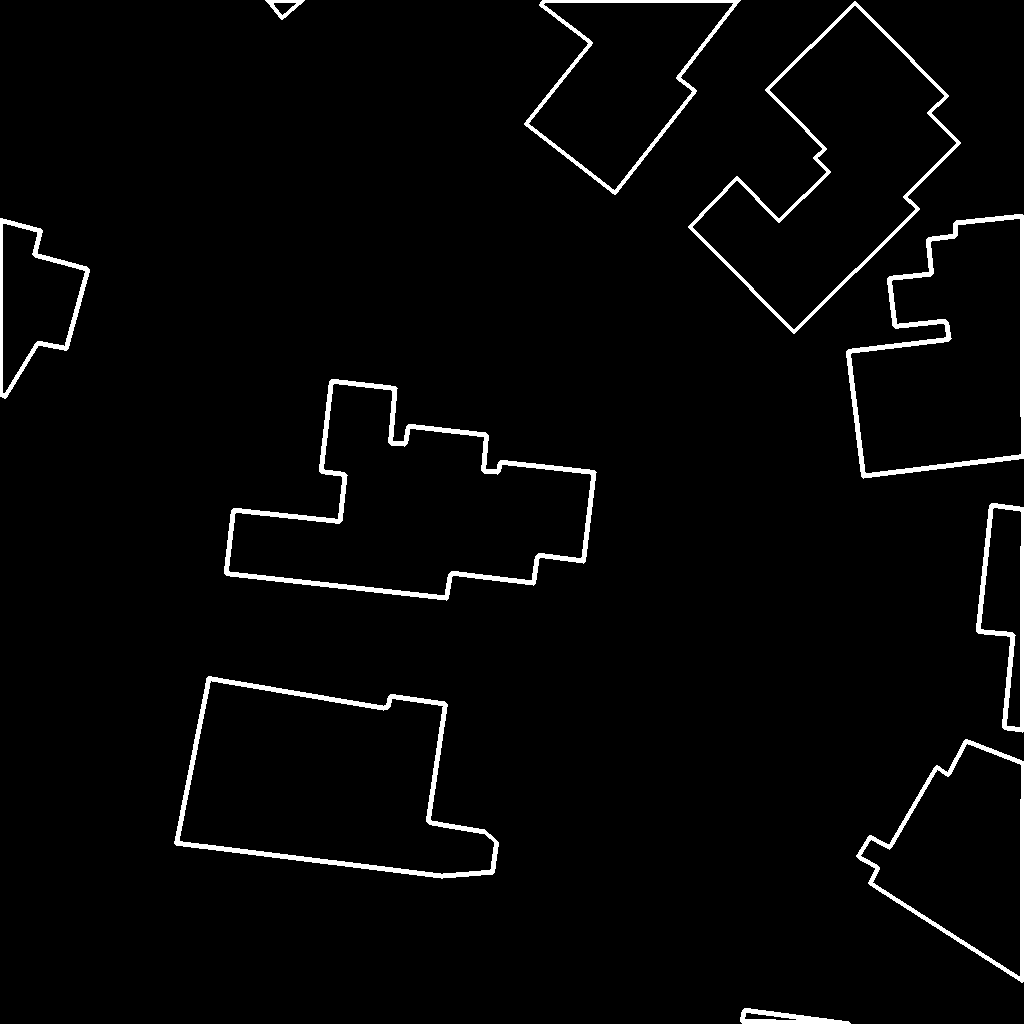building: (690, 3, 960, 333), (226, 381, 595, 599), (176, 678, 497, 877), (848, 216, 1024, 477), (526, 0, 740, 194), (858, 741, 1024, 982), (0, 220, 89, 398), (978, 505, 1024, 731), (742, 1010, 851, 1024), (267, 0, 304, 19)
